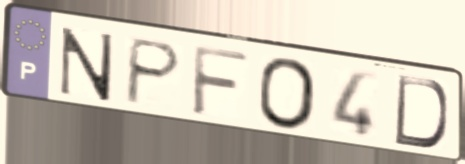4: (328, 67, 380, 141)
D: (391, 72, 451, 151)
F: (189, 42, 252, 120)
N: (56, 24, 117, 105)
O: (256, 56, 320, 133)
P: (121, 34, 185, 108)
